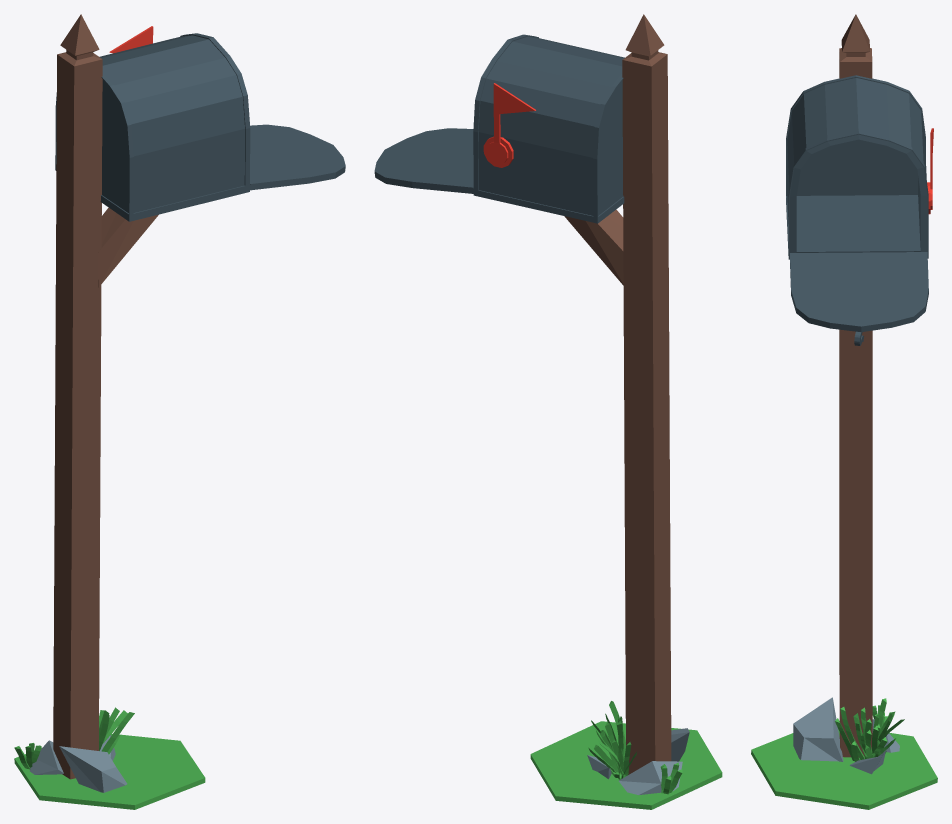
File: Mailbox v2.glb
3 renders of one model, left to right at view 1: azimuth 30°, elevation 25°; view 2: azimuth 150°, elevation 25°; view 3: azimuth 270°, elevation 25°, orthographic. The views are drawn at different scales.
Parts seen in each view (by area): view 1: group1018199070, group2028911354, group2098010904, group513383197, group804677075, group961800690, group2114715230; view 2: group1018199070, group2028911354, group2098010904, group513383197, group804677075, group62313567, group2114715230; view 3: group2028911354, group1018199070, group513383197, group2098010904, group961800690, group1855928084.
Part boxes in pixels (left/top/right/bottom): group1018199070: left=53, top=14, right=102, bottom=779; group2028911354: left=55, top=33, right=250, bottom=221; group2098010904: left=14, top=734, right=205, bottom=809; group513383197: left=250, top=124, right=345, bottom=190; group804677075: left=98, top=207, right=158, bottom=287; group961800690: left=59, top=746, right=127, bottom=792; group2114715230: left=30, top=740, right=63, bottom=774; group1018199070: left=622, top=14, right=671, bottom=774; group2028911354: left=473, top=34, right=624, bottom=223; group2098010904: left=530, top=721, right=722, bottom=809; group513383197: left=374, top=128, right=473, bottom=193; group804677075: left=564, top=209, right=623, bottom=285; group62313567: left=483, top=83, right=535, bottom=167; group2114715230: left=619, top=761, right=682, bottom=795; group2028911354: left=786, top=75, right=928, bottom=259; group1018199070: left=839, top=14, right=872, bottom=757; group513383197: left=789, top=252, right=928, bottom=332; group2098010904: left=751, top=729, right=937, bottom=809; group961800690: left=793, top=697, right=843, bottom=761; group1855928084: left=849, top=750, right=885, bottom=774.
Bounding box in the file's own units: 2.78 × 6.35 × 1.44.
